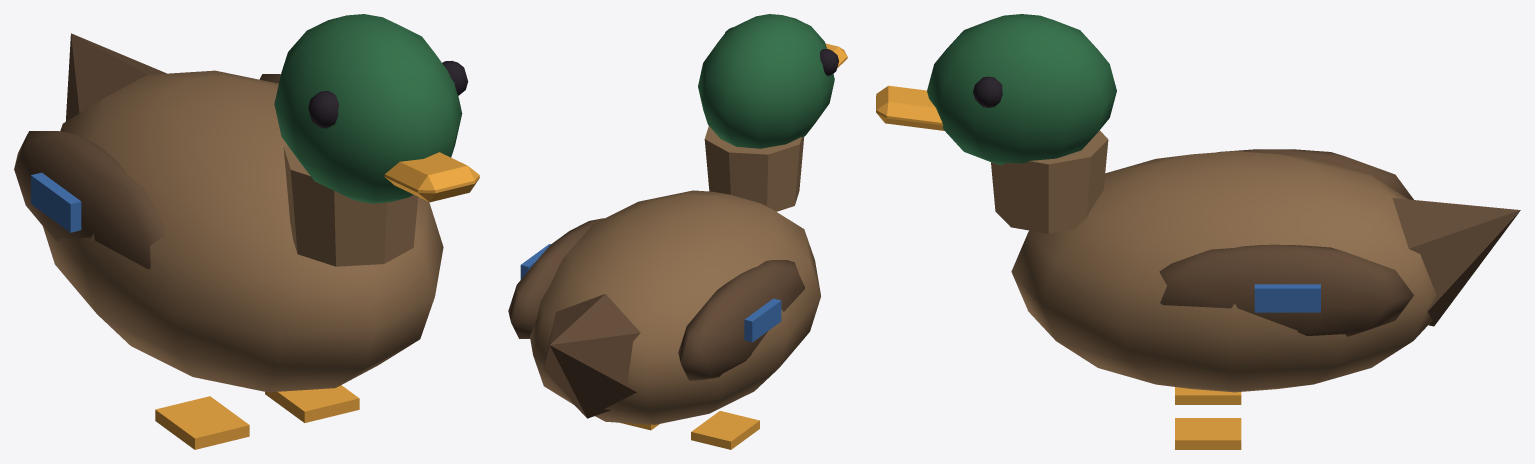
Rendered from critter_duck.glb.
3 views of the same model, side by side, from view 1: azimuth 30°, elevation 25°; view 2: azimuth 150°, elevation 25°; view 3: azimuth 270°, elevation 25° (orthographic). The views are drawn at different scales.
Visible parts, largest first — view 1: critter_duck; view 2: critter_duck; view 3: critter_duck.
Boxes of the visible parts, <box> form: critter_duck: <box>14,14,479,449</box>; critter_duck: <box>508,14,847,449</box>; critter_duck: <box>876,14,1520,449</box>.
Bounding box in the file's own units: 0.232 × 0.3285 × 0.4851.
